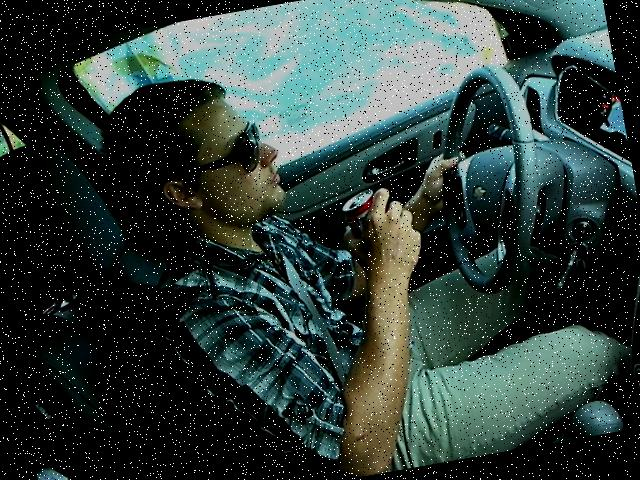c4 - Drinking: (76, 6, 596, 479)
